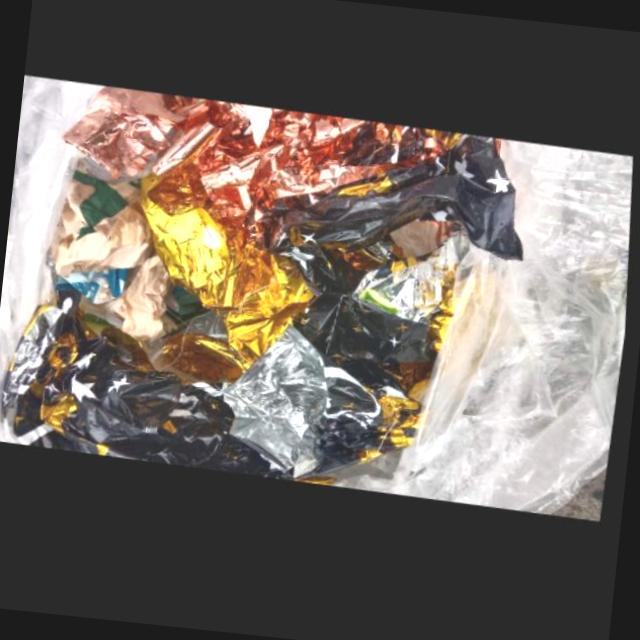giay: (56, 159, 179, 346)
nhom: (281, 142, 527, 480), (68, 89, 452, 249), (4, 297, 293, 486), (144, 176, 316, 389), (224, 330, 329, 483)
